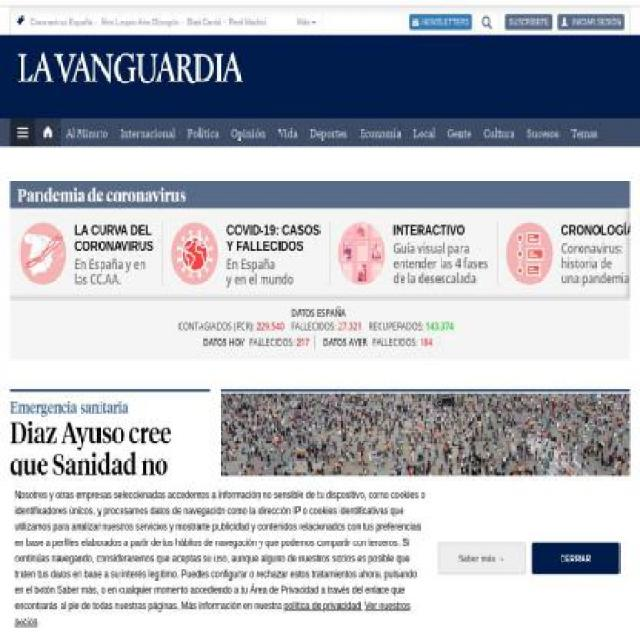button: (18, 51, 244, 85), (392, 222, 488, 286), (560, 222, 634, 286), (437, 541, 526, 574), (531, 541, 620, 574), (557, 14, 625, 31), (410, 14, 472, 31), (13, 272, 69, 290), (165, 272, 221, 290), (331, 272, 387, 290), (499, 272, 555, 290), (120, 127, 175, 139), (66, 127, 108, 139), (359, 127, 401, 139), (310, 127, 347, 139), (231, 127, 266, 139), (187, 127, 219, 139), (527, 127, 559, 139), (484, 127, 514, 139), (572, 127, 598, 139), (447, 127, 471, 139), (413, 127, 435, 139), (278, 127, 297, 139)
